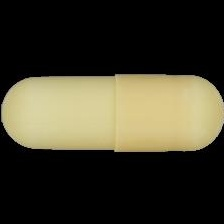51079-438: (0, 0, 224, 224)
